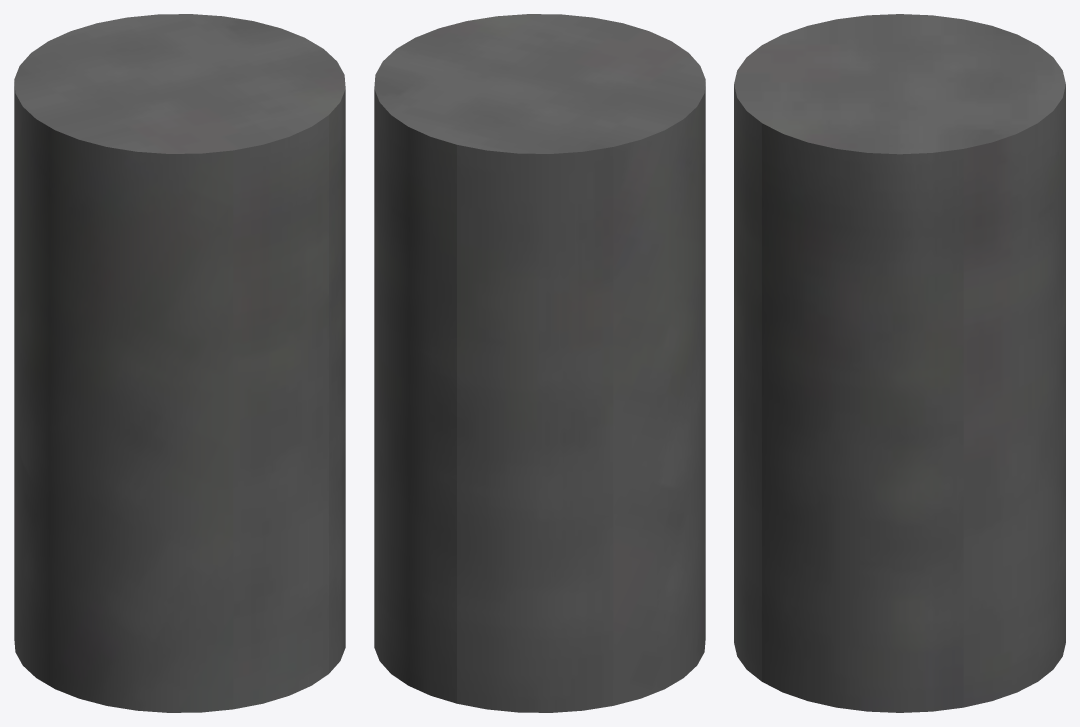
The model's file is selector_knob__knob_shaft.glb.
3 views of the same model, side by side, from view 1: azimuth 30°, elevation 25°; view 2: azimuth 150°, elevation 25°; view 3: azimuth 270°, elevation 25° (orthographic).
Visible parts, largest first — view 1: world; view 2: world; view 3: world.
Boxes of the visible parts, x1,y1,x2,y2 form: world: (14, 14, 345, 712); world: (374, 14, 705, 712); world: (734, 14, 1065, 712).
Size of the model in its own units: 0.014 by 0.026 by 0.014.
Materials: 1 (1 with a texture image).
